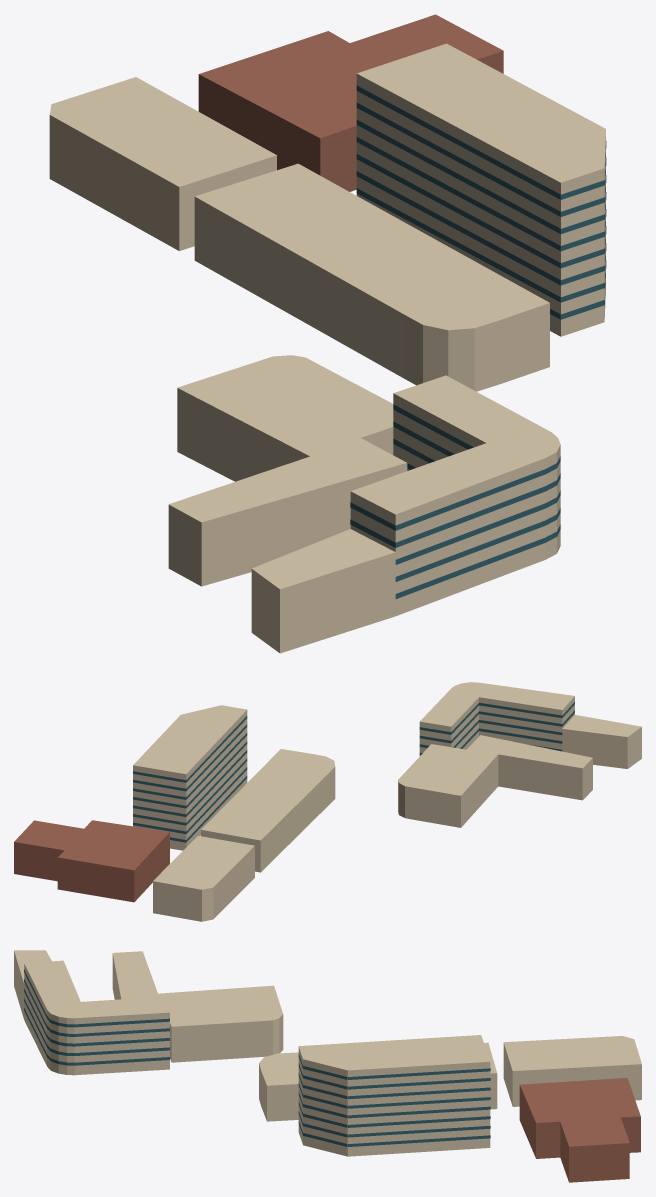
The model's file is city_-4_4.glb.
The picture shows the model from 3 angles, top to bottom: view 1: azimuth 30°, elevation 25°; view 2: azimuth 150°, elevation 25°; view 3: azimuth 270°, elevation 25°; orthographic projection. The views are drawn at different scales.
Parts seen in each view (by area): view 1: city_-4_4; view 2: city_-4_4; view 3: city_-4_4.
Boxes of the visible parts, x1=… form: city_-4_4: x1=49, y1=14, x2=606, y2=653; city_-4_4: x1=14, y1=682, x2=641, y2=921; city_-4_4: x1=14, y1=950, x2=641, y2=1182.
Bounding box in the file's own units: 176 × 36 × 238.
